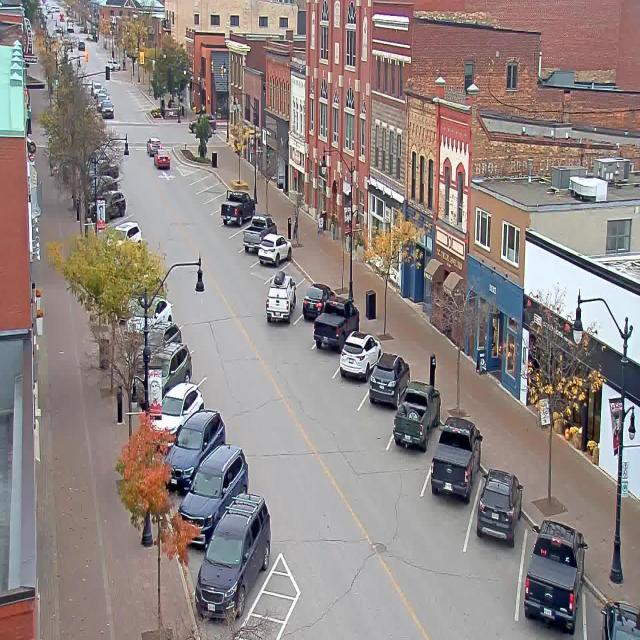available: (207, 177, 223, 199), (192, 164, 206, 183), (200, 170, 213, 190), (214, 188, 228, 206)
occupied: (194, 491, 271, 622), (176, 443, 249, 548), (524, 518, 588, 633), (162, 408, 226, 492), (430, 416, 482, 503), (131, 341, 193, 410), (149, 381, 204, 452), (476, 467, 523, 547), (392, 380, 441, 451), (590, 580, 639, 640), (312, 296, 360, 352), (369, 351, 410, 408), (339, 330, 381, 381), (266, 270, 296, 324), (242, 213, 277, 253), (220, 188, 255, 226), (302, 282, 334, 321), (258, 233, 292, 267)
